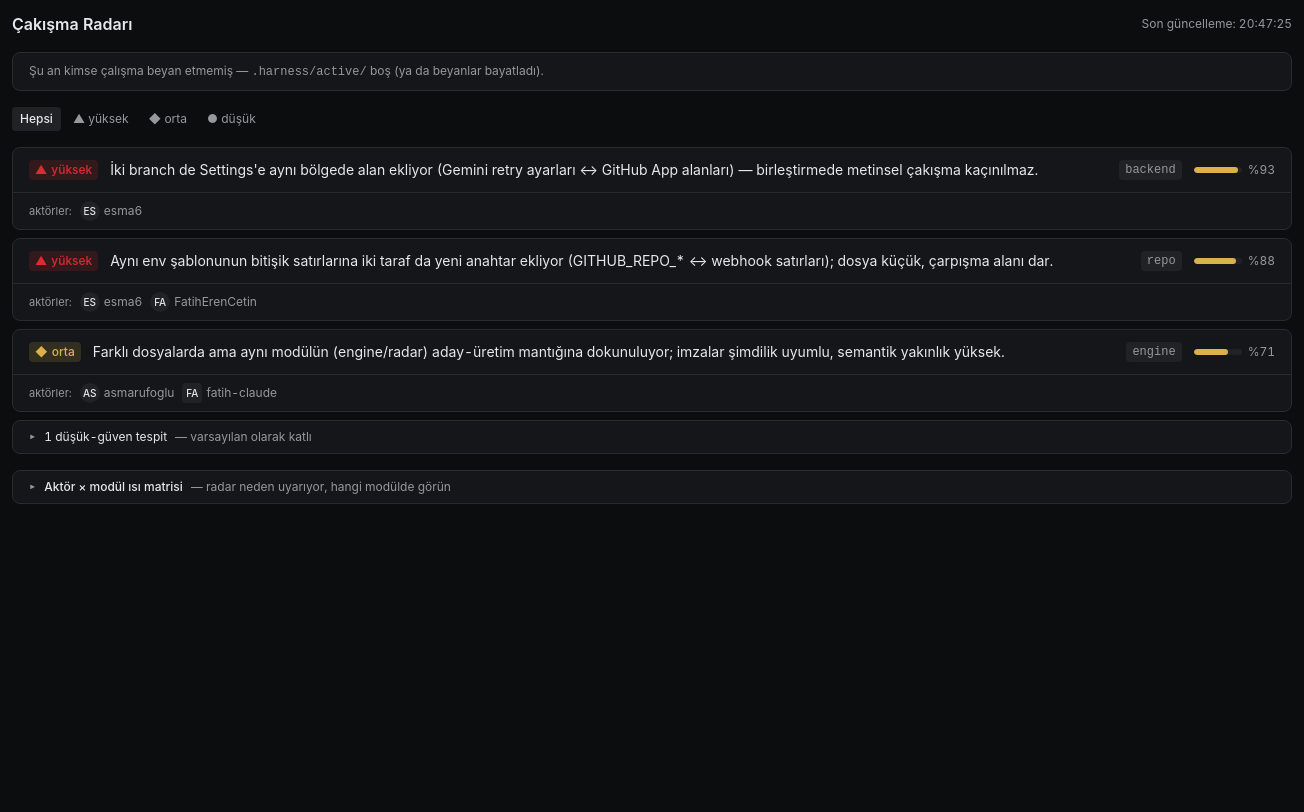
Scenario: DetailSheet — doğrulama bulgularının kilitleri › focus seçimi takip eder (roving) + sınırlarda sessiz durur
Click the 5th button at coordinates (652, 170), box [13,148,1291,192]
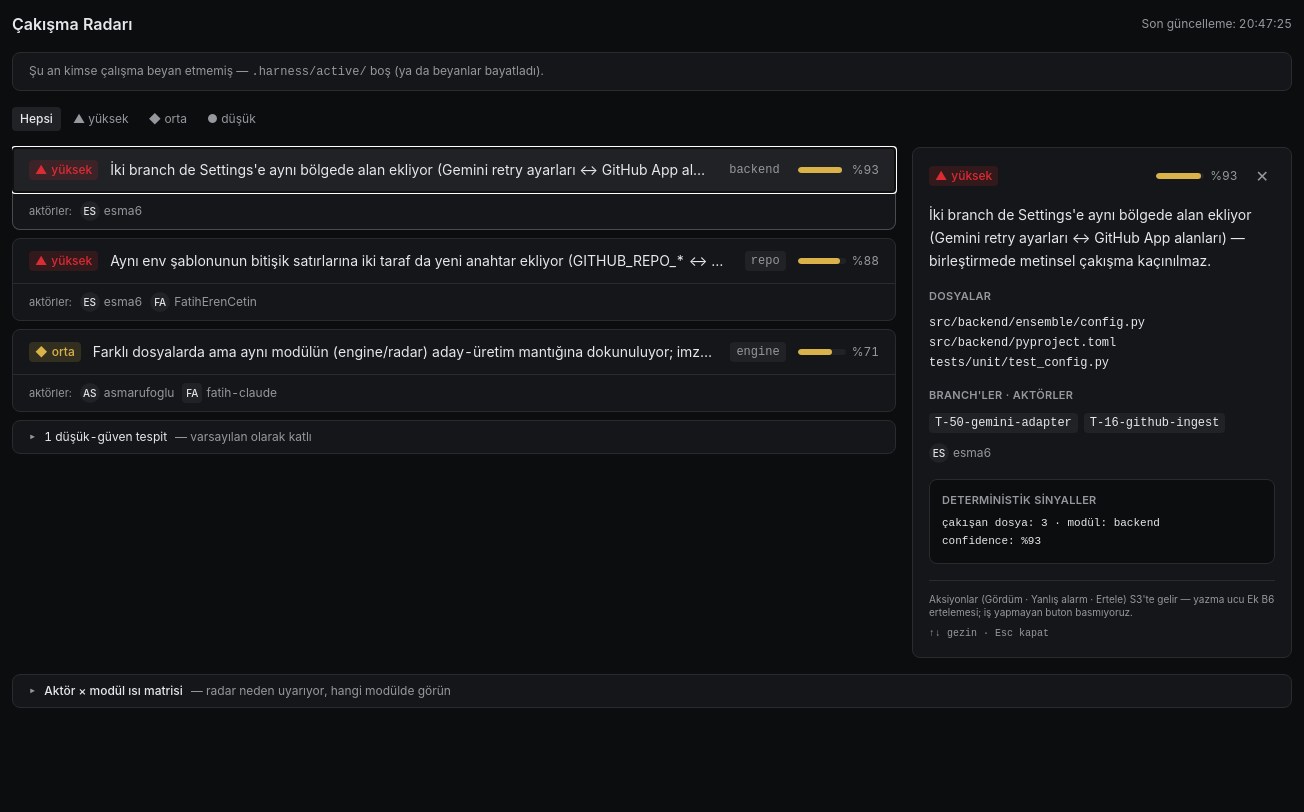
Press Arrowup
Expected: the list item "src/backend/ensemble/config.py" is shown, [929,316,1145,330]
Press Arrowdown
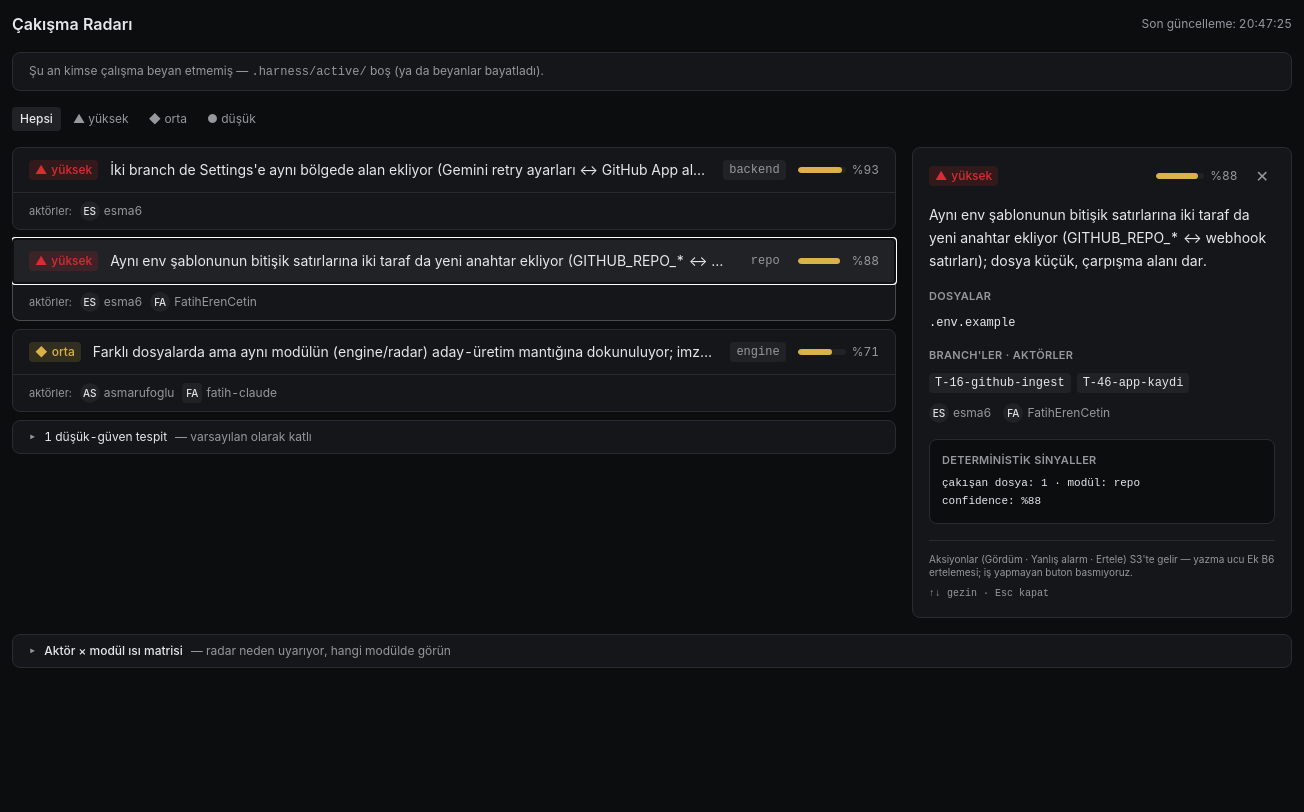
Press Arrowdown Arrowdown Arrowdown
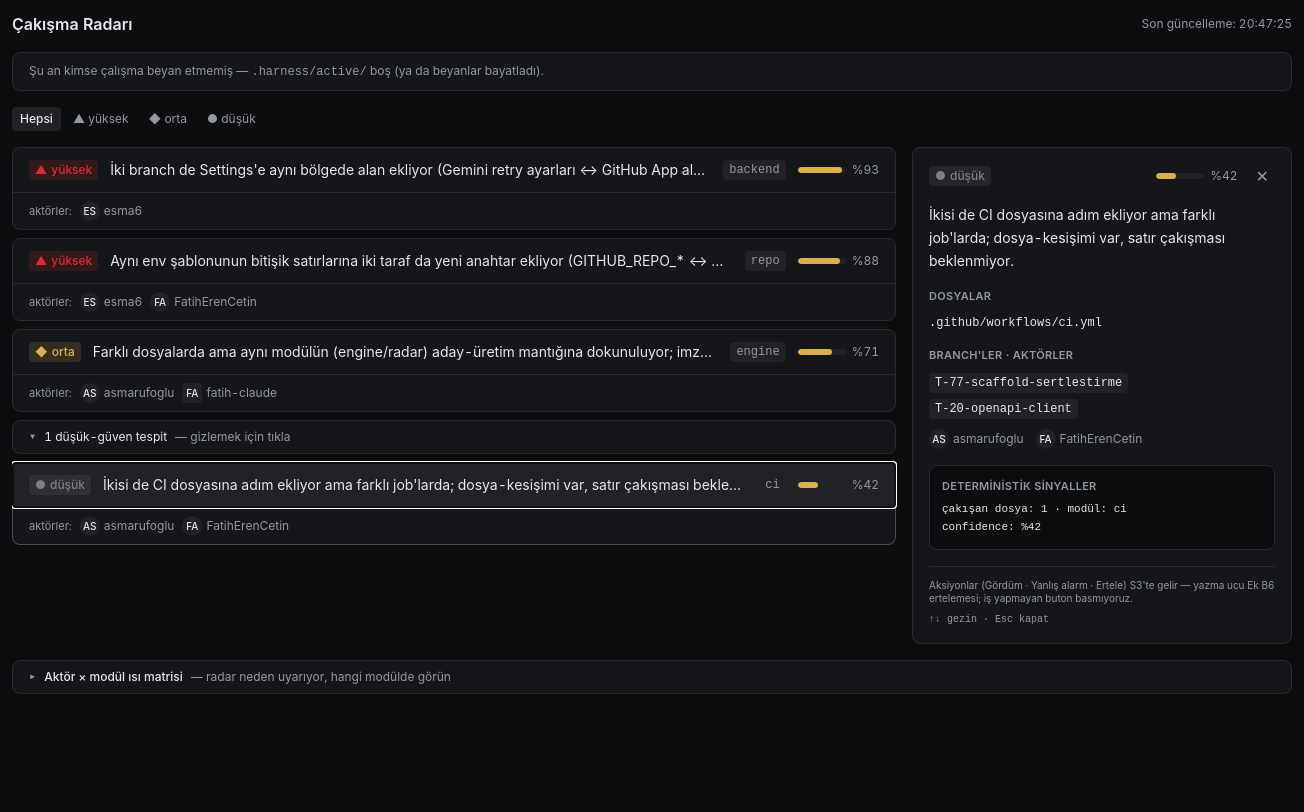
Expected: the button "▾ 1 düşük-güven tespit — gizlemek için tıkla" is expanded, [12,420,896,454]
